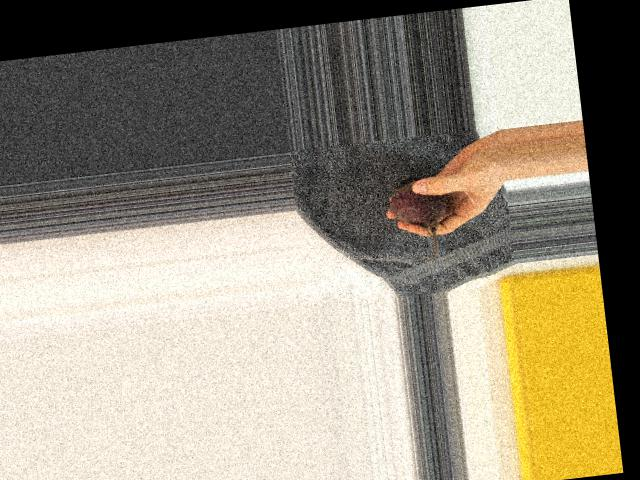beet: (386, 172, 454, 266)
